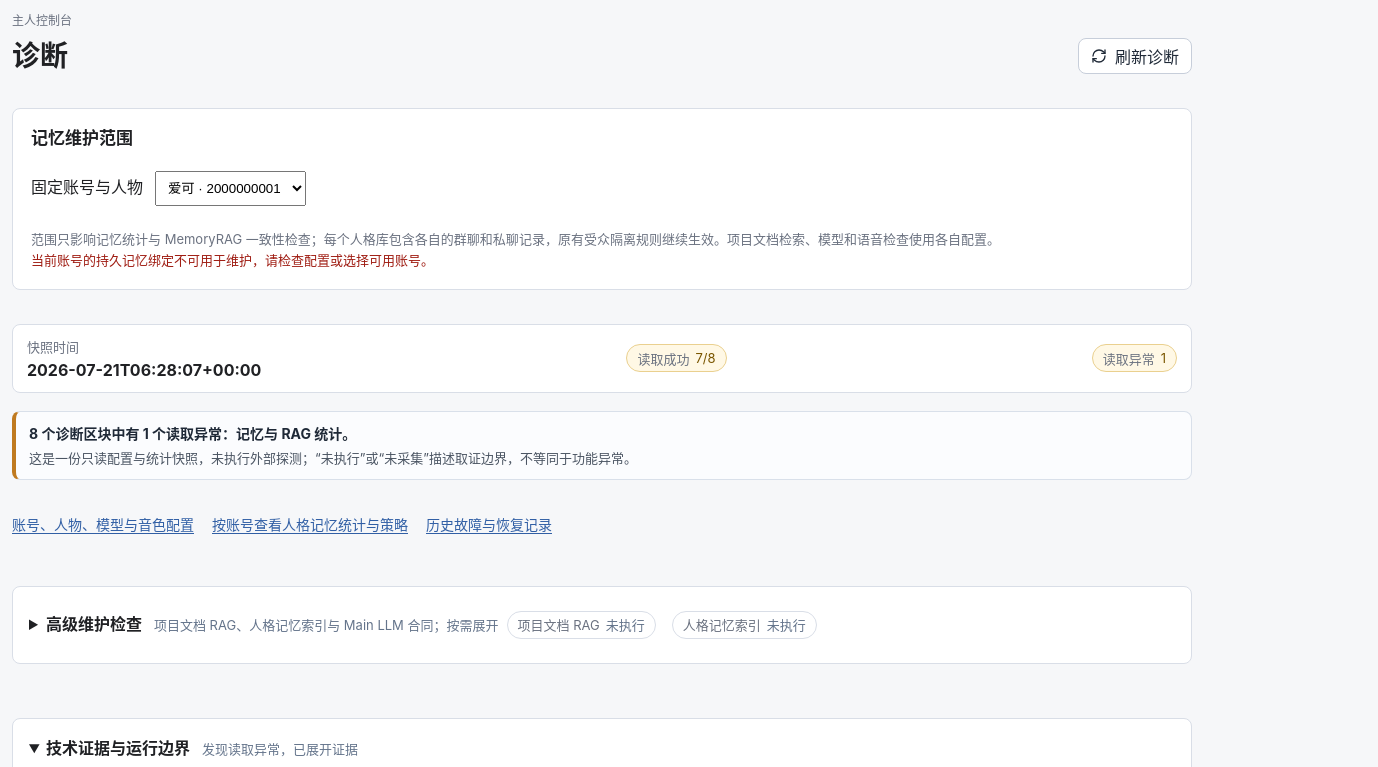
DiagnosticsPage › keeps other checks available when the requested memory account is invalid
Click the heading that starts with "高级维护检查" at (431, 625), box [46,611,817,639]
(page scrolled)
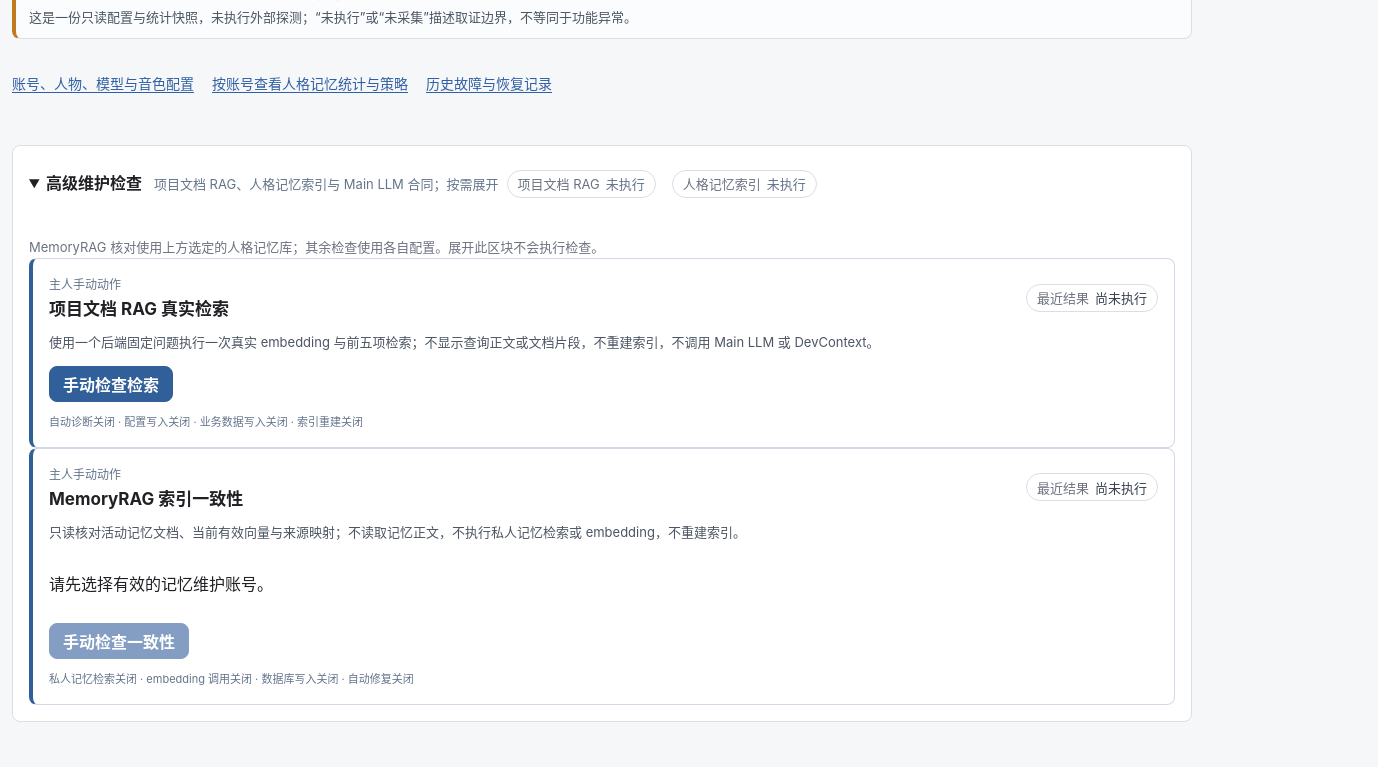
Check: the button "手动检查一致性" is disabled, box [49,623,189,659]
Check: the button "手动检查检索" is enabled, box [49,366,173,402]
